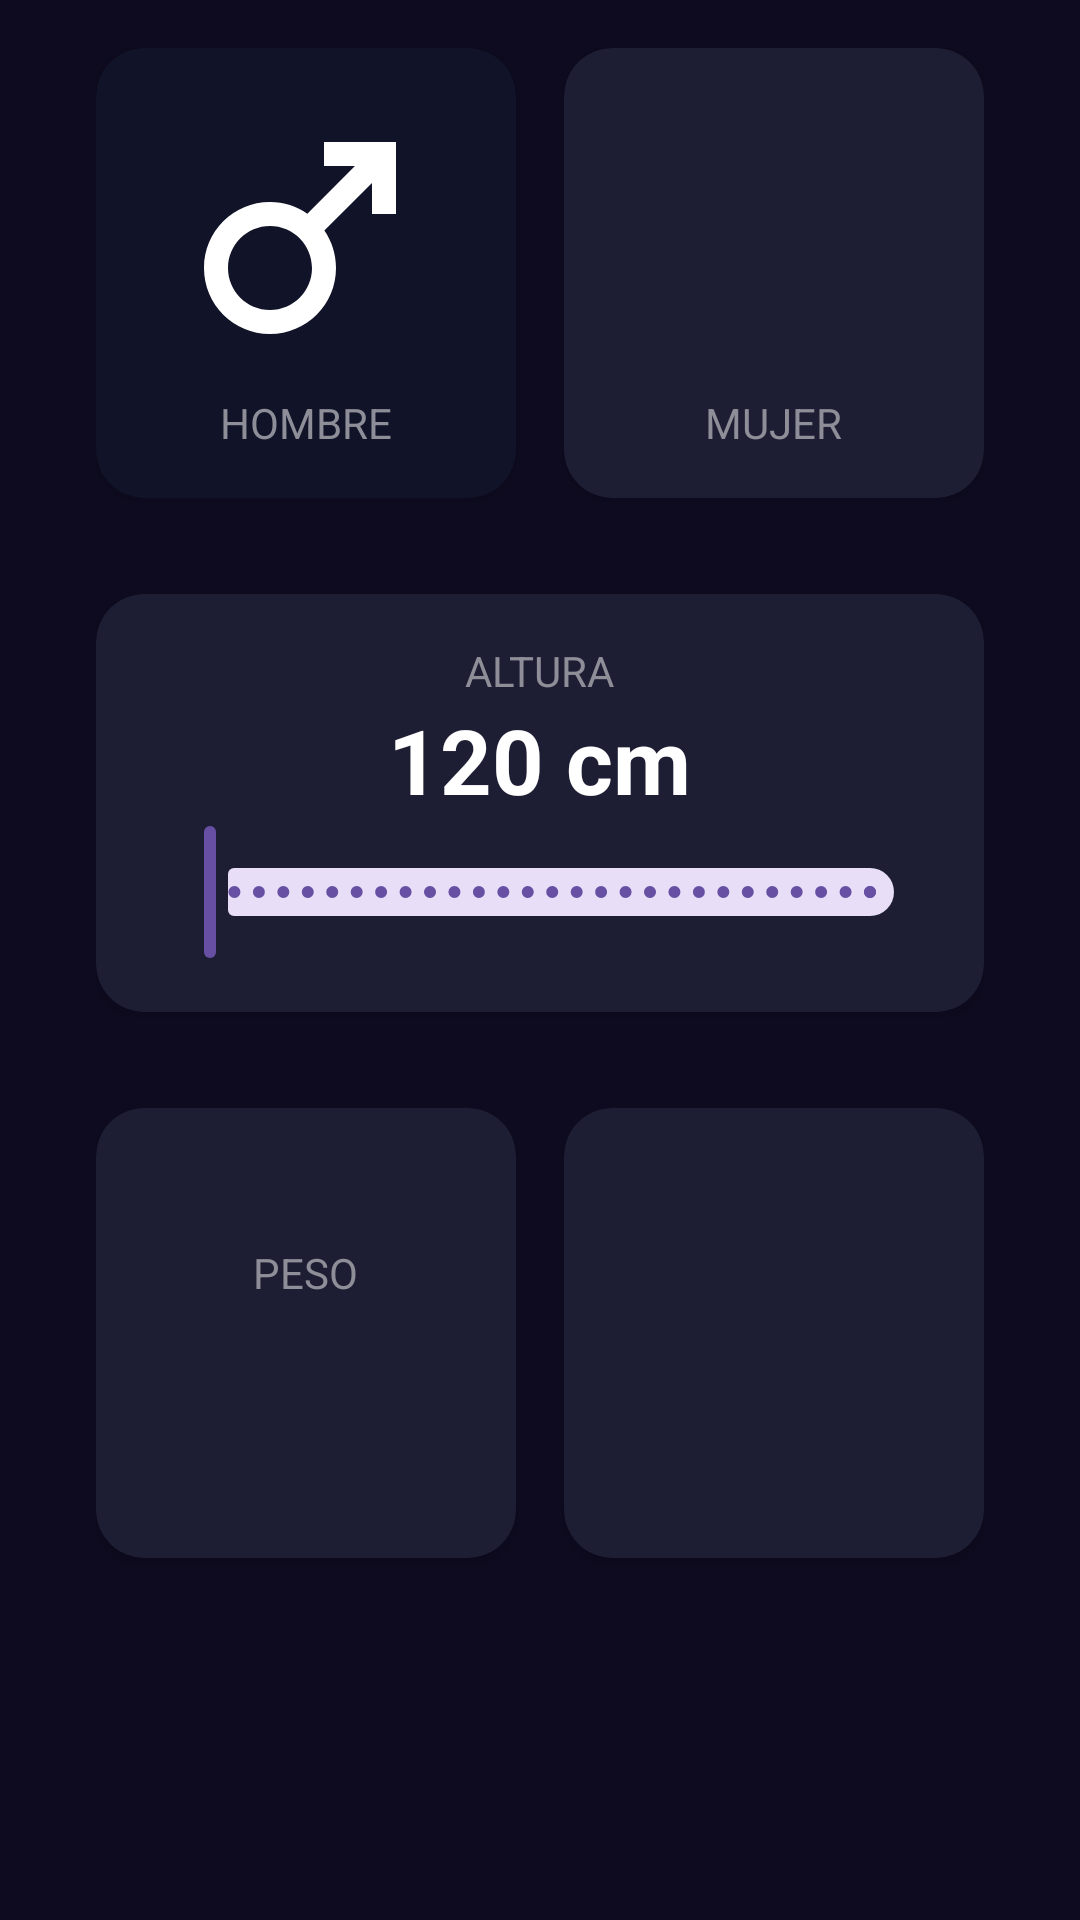

Screen size 1080w x 1920h. Icon name, then its box in pixels as bbox(x1, y1, x2, y2):
male: bbox(204, 142, 396, 334)
